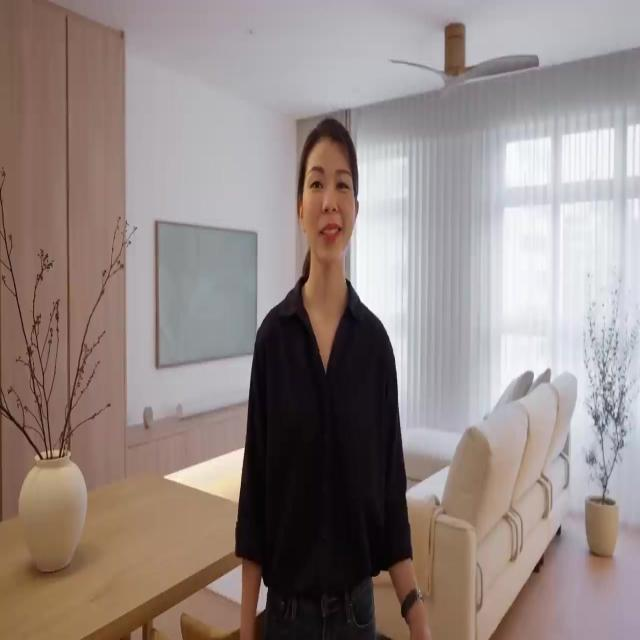obstacle: (400, 368, 577, 638), (0, 468, 246, 638)
person: (234, 116, 432, 640)
